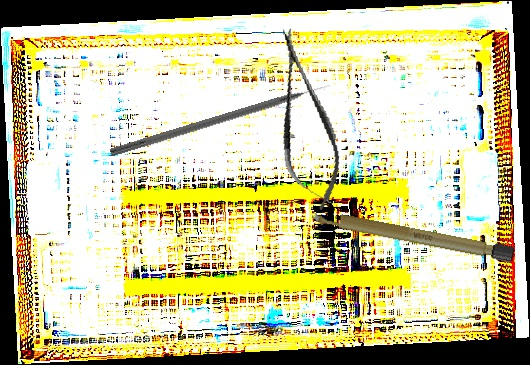Hook Surgical: (109, 81, 333, 160)
Micro Scissor: (261, 23, 350, 215)
Scalpel Handle: (308, 206, 516, 263)
